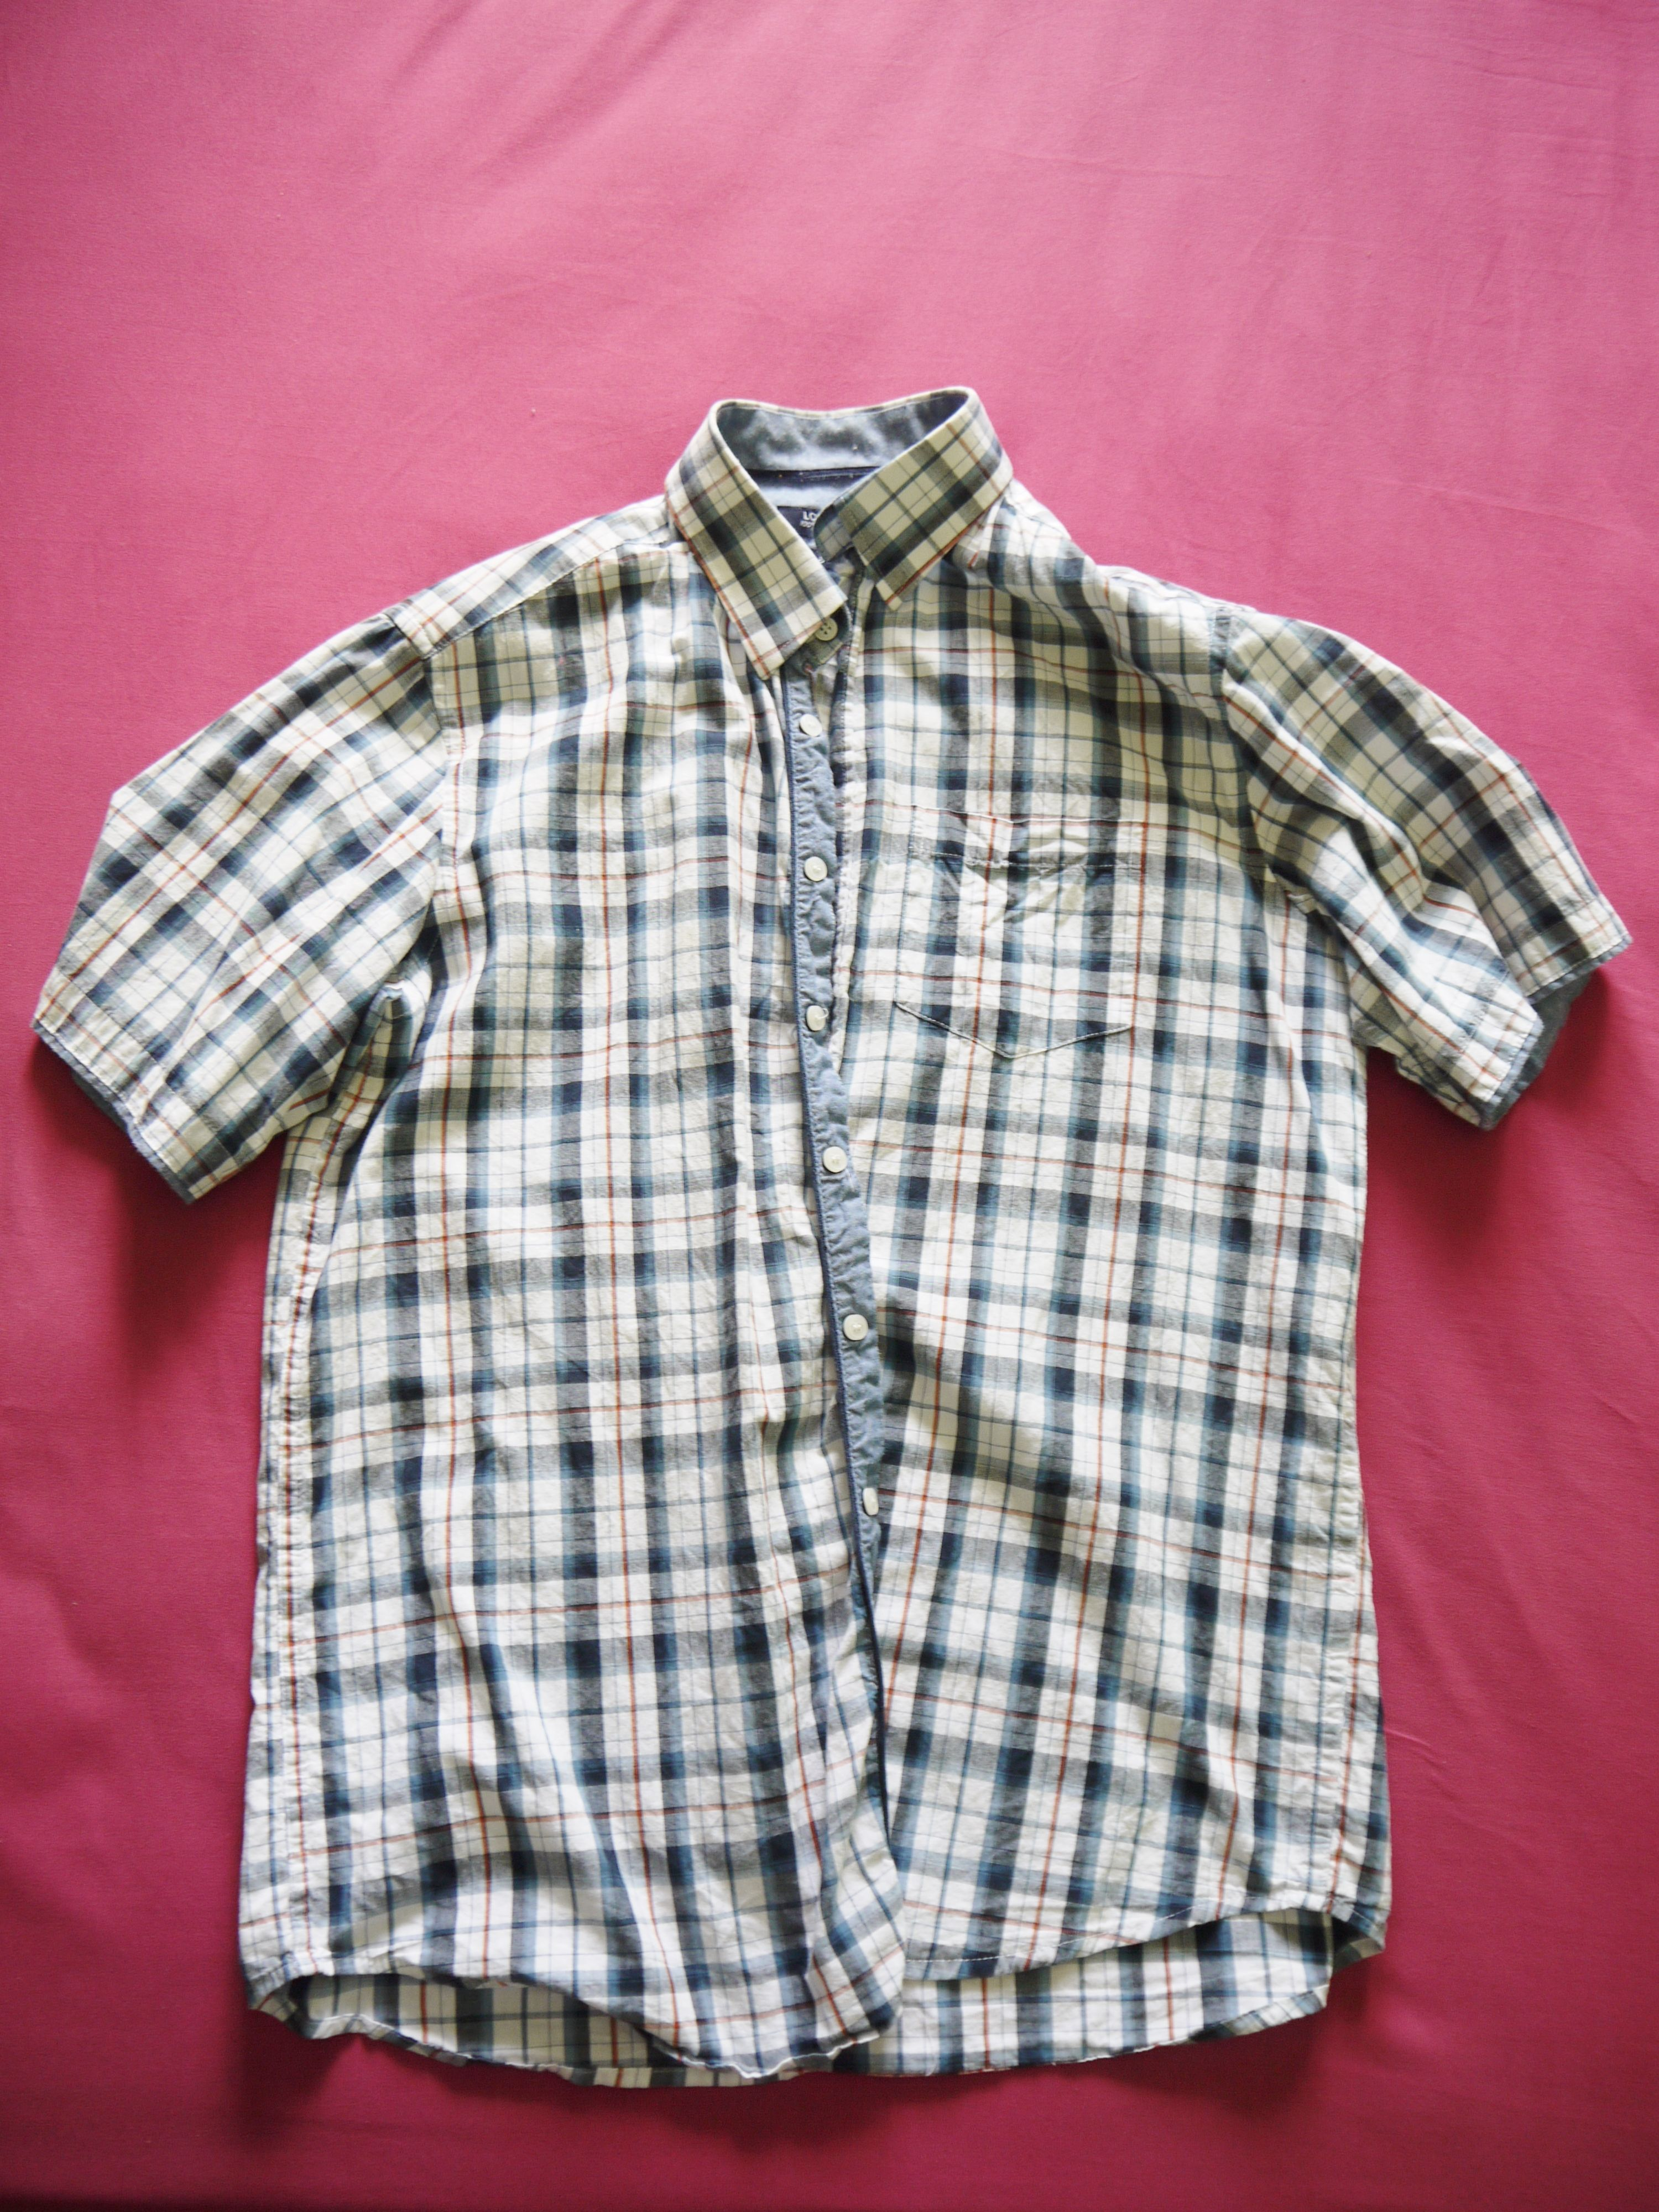clothes: (26, 388, 1581, 2055)
